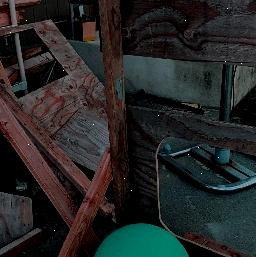algae: (87, 221, 194, 257)
